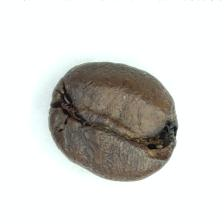NG: (129, 109, 178, 168)
